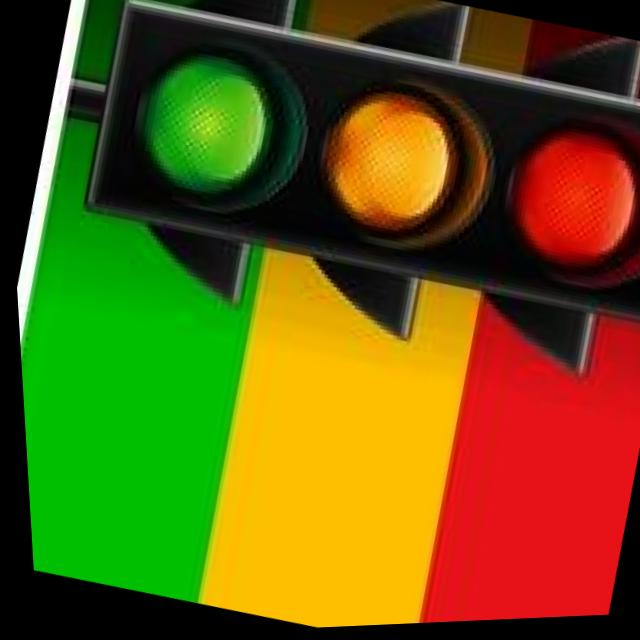green_light: (98, 0, 340, 253)
red_light: (478, 92, 640, 329)
yellow_light: (285, 38, 545, 288)
